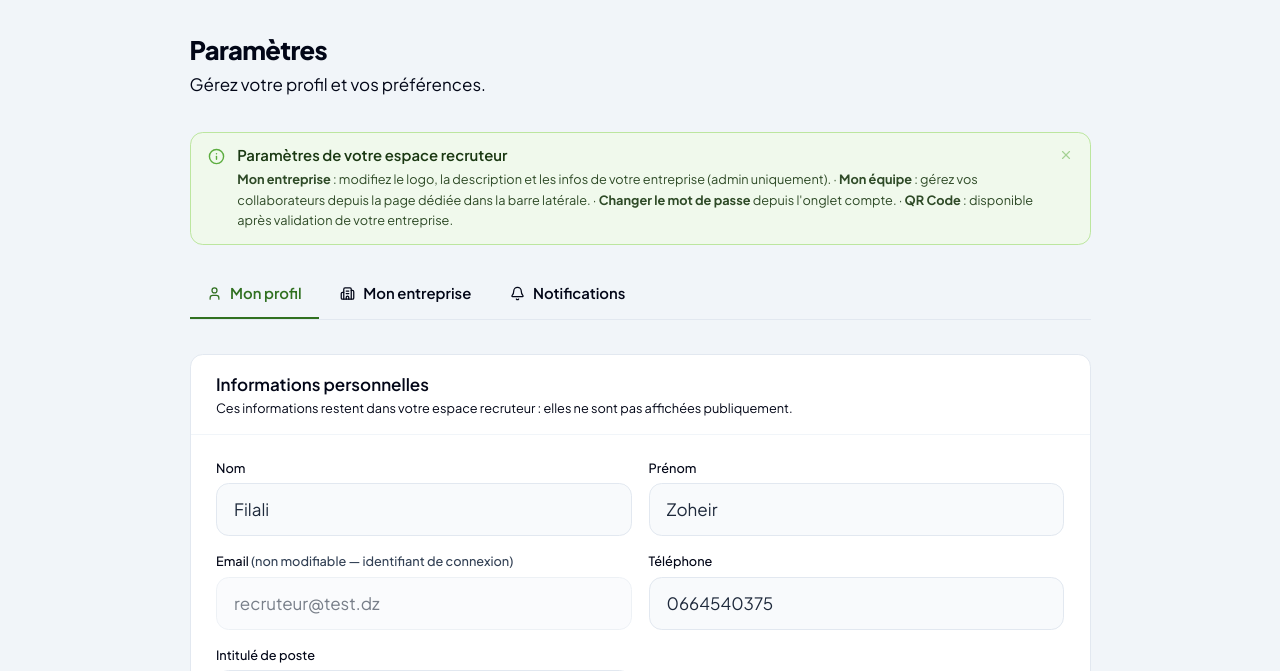
Scenario: ⚙️ UI & Logique - Composant <ParametresRecruteur /> › 🟢 HP3 : Navigation vers onglet entreprise
Click the button "Mon entreprise": (406, 295) x1=323 y1=270 x2=488 y2=319
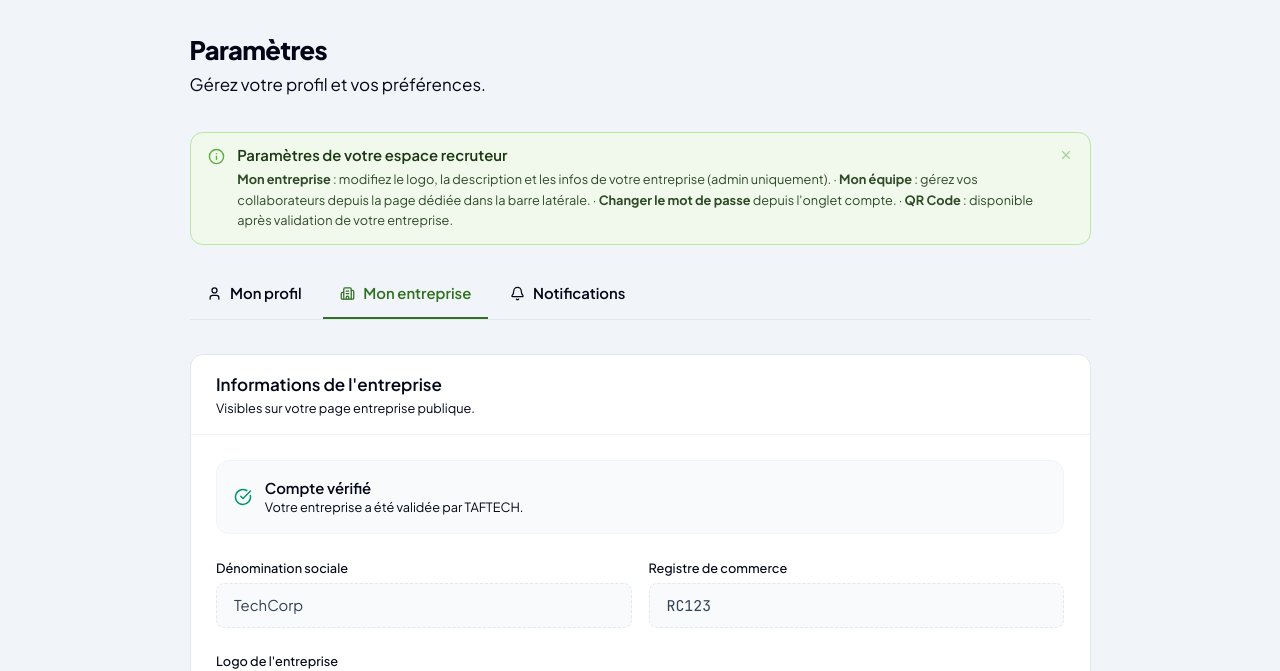
Now the text "TechCorp" is shown, box x1=216 y1=583 x2=632 y2=628
Now the text "RC123" is shown, box x1=648 y1=583 x2=1064 y2=628
